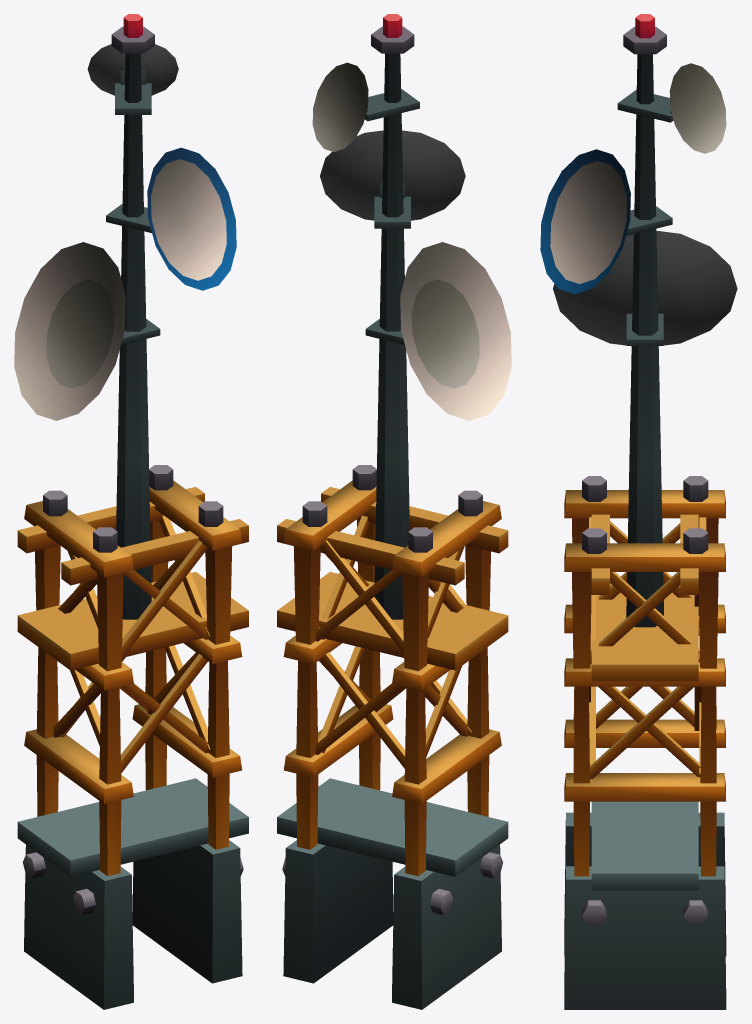
The model's file is Antenna_2A.fbx.
3 renders of one model, left to right at view 1: azimuth 30°, elevation 25°; view 2: azimuth 150°, elevation 25°; view 3: azimuth 270°, elevation 25°, orthographic.
Visible parts, largest first — view 1: Antenna_2A; view 2: Antenna_2A; view 3: Antenna_2A.
Boxes of the visible parts, box(x1,y1,x2,y2) form: Antenna_2A: box(14, 14, 248, 1009); Antenna_2A: box(277, 14, 511, 1009); Antenna_2A: box(540, 14, 737, 1009).
Size of the model in its own units: 343 by 1669 by 311.
